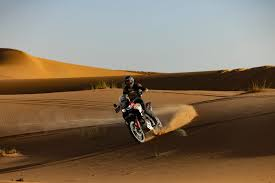motorcycle: (108, 88, 162, 146)
